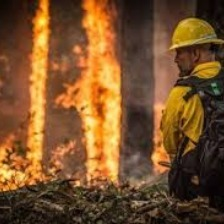incendio: (65, 8, 130, 194), (1, 17, 53, 192), (143, 96, 167, 177)
pessoas: (162, 14, 223, 210)
